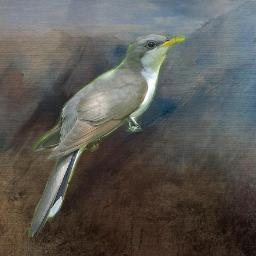Cuckoo: (28, 34, 185, 237)
